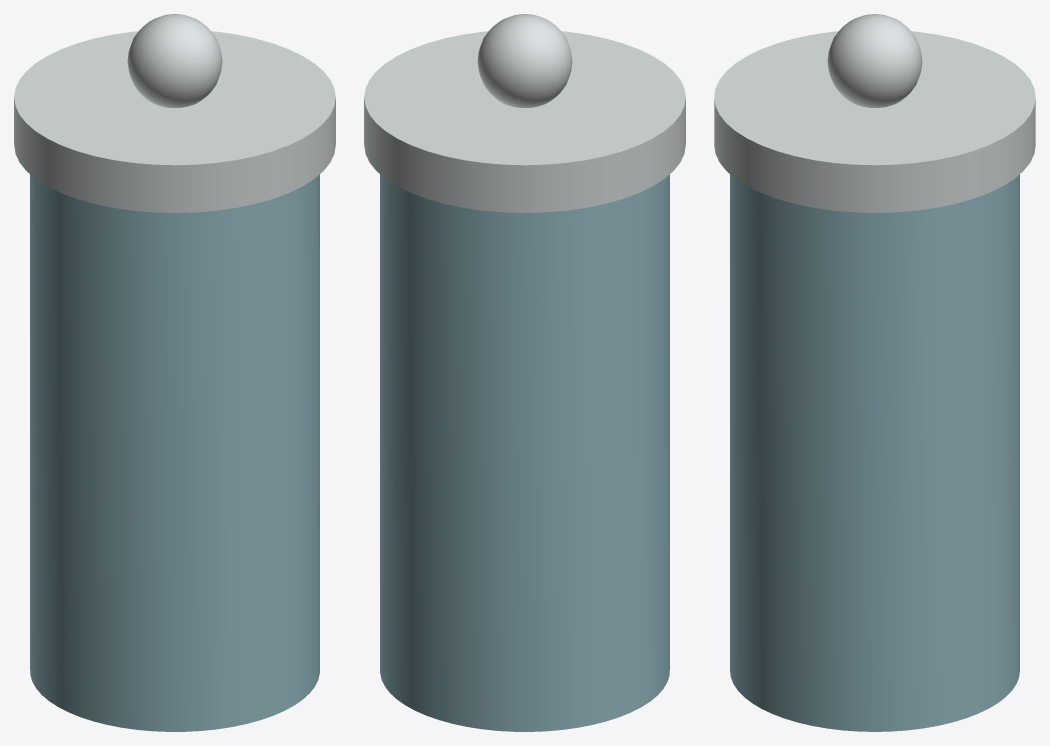
The model's file is barbershop-and-hair-salon-sanitation-jar-5c55b2cb__29678.glb.
The picture shows the model from 3 angles, left to right: view 1: azimuth 30°, elevation 25°; view 2: azimuth 150°, elevation 25°; view 3: azimuth 270°, elevation 25°; orthographic projection.
Visible parts, largest first — view 1: sanitation-jar; view 2: sanitation-jar; view 3: sanitation-jar.
Part boxes in pixels (<box>): sanitation-jar: <box>14,14,335,731</box>; sanitation-jar: <box>364,14,685,731</box>; sanitation-jar: <box>714,14,1035,731</box>.
Size of the model in its own units: 0.122 by 0.273 by 0.122.
